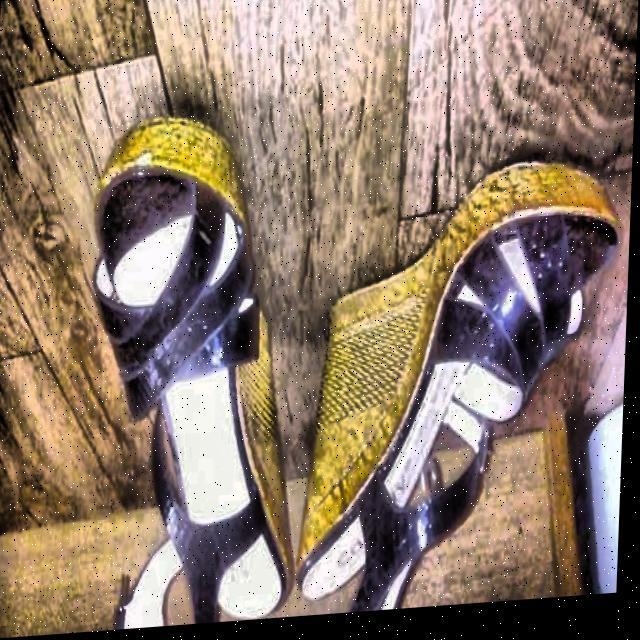shoes: (73, 80, 625, 633)
